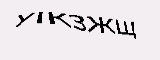І: (36, 10, 43, 27)
Ж: (86, 15, 118, 36)
З: (69, 14, 87, 31)
К: (46, 10, 71, 29)
У: (13, 12, 34, 28)
Щ: (114, 19, 137, 40)
